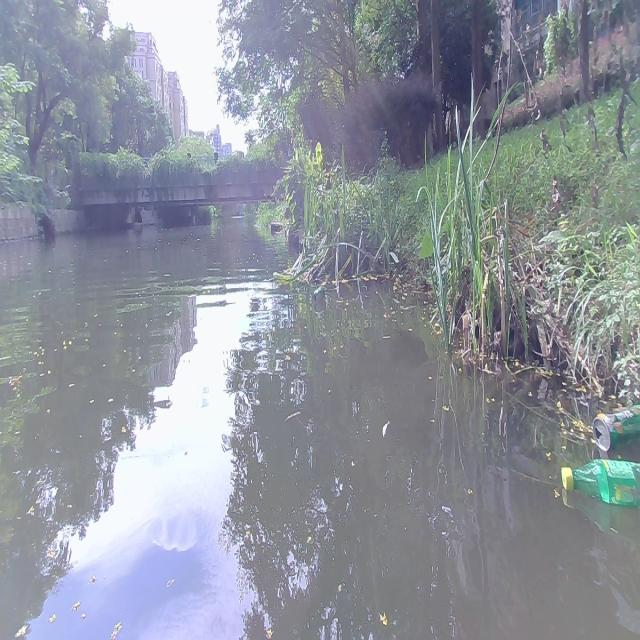bottle: (560, 458, 640, 506), (592, 408, 640, 453)
